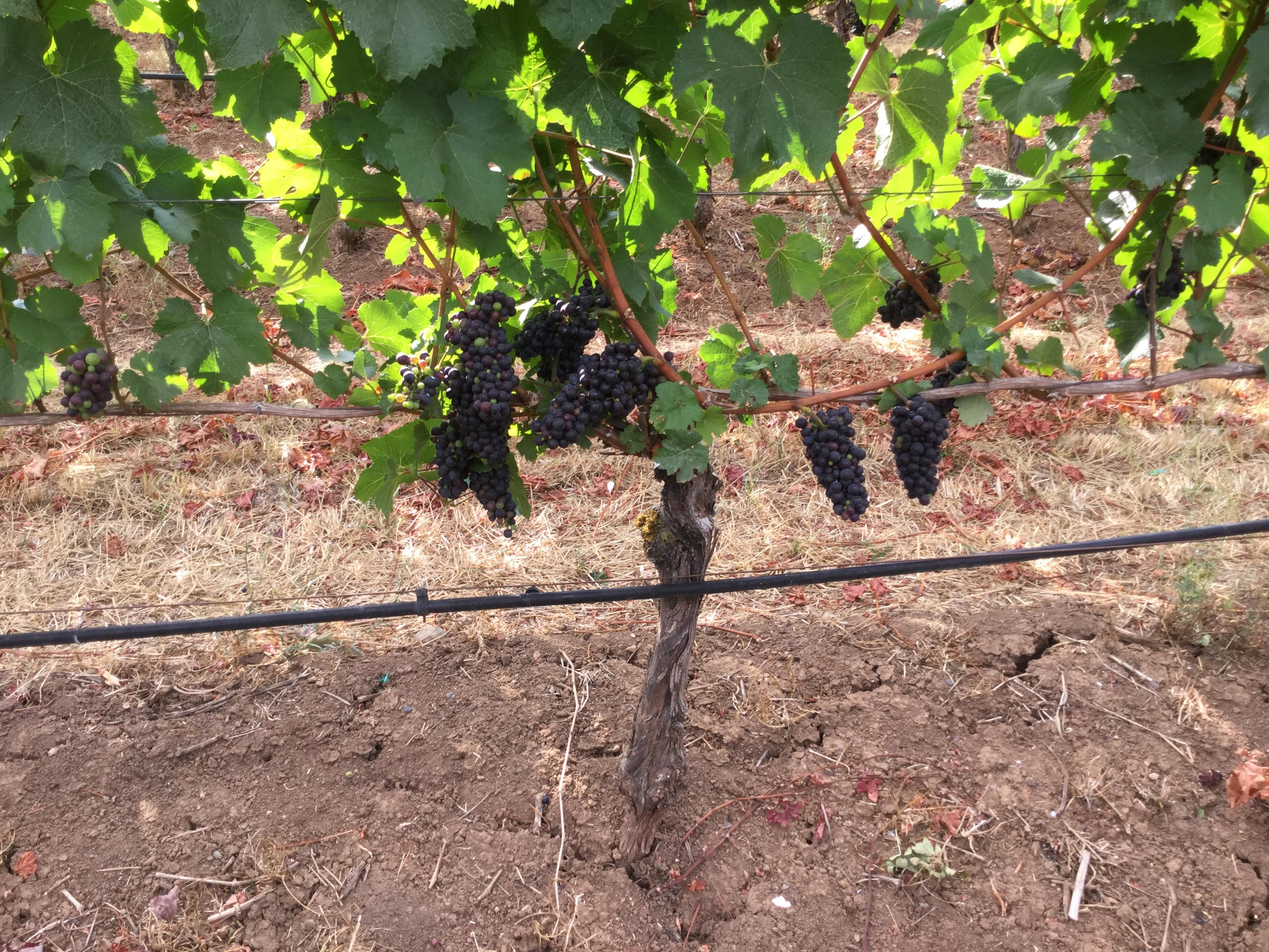leaf: (673, 14, 851, 180), (0, 17, 156, 170), (380, 77, 531, 224), (259, 112, 402, 221), (152, 291, 271, 394), (465, 4, 552, 130), (340, 0, 475, 80), (1089, 91, 1202, 186), (544, 49, 639, 150), (876, 50, 954, 167), (17, 169, 110, 258), (983, 43, 1083, 125), (89, 164, 170, 265), (622, 139, 695, 248), (199, 0, 313, 68), (354, 421, 434, 516), (1116, 19, 1212, 98), (820, 233, 889, 339), (213, 56, 301, 139), (271, 185, 338, 288), (8, 286, 87, 352), (1187, 154, 1252, 232), (158, 0, 207, 88), (765, 232, 822, 306), (119, 351, 188, 411), (0, 343, 58, 413), (537, 0, 620, 47), (332, 33, 384, 100), (357, 298, 418, 355), (893, 205, 947, 261), (698, 323, 744, 388), (1240, 30, 1268, 136), (279, 304, 341, 351), (653, 430, 709, 482), (1105, 301, 1149, 365), (650, 382, 701, 433), (1016, 336, 1080, 376), (52, 241, 108, 285), (1175, 337, 1226, 368), (752, 214, 786, 259), (694, 405, 728, 446), (312, 363, 351, 397), (729, 377, 769, 408), (955, 394, 993, 426), (1011, 268, 1063, 290), (770, 354, 799, 392), (1255, 345, 1268, 374), (414, 194, 421, 200), (135, 113, 142, 119), (552, 115, 562, 119), (340, 83, 343, 88), (944, 98, 945, 112), (400, 294, 404, 296), (547, 40, 549, 42)
